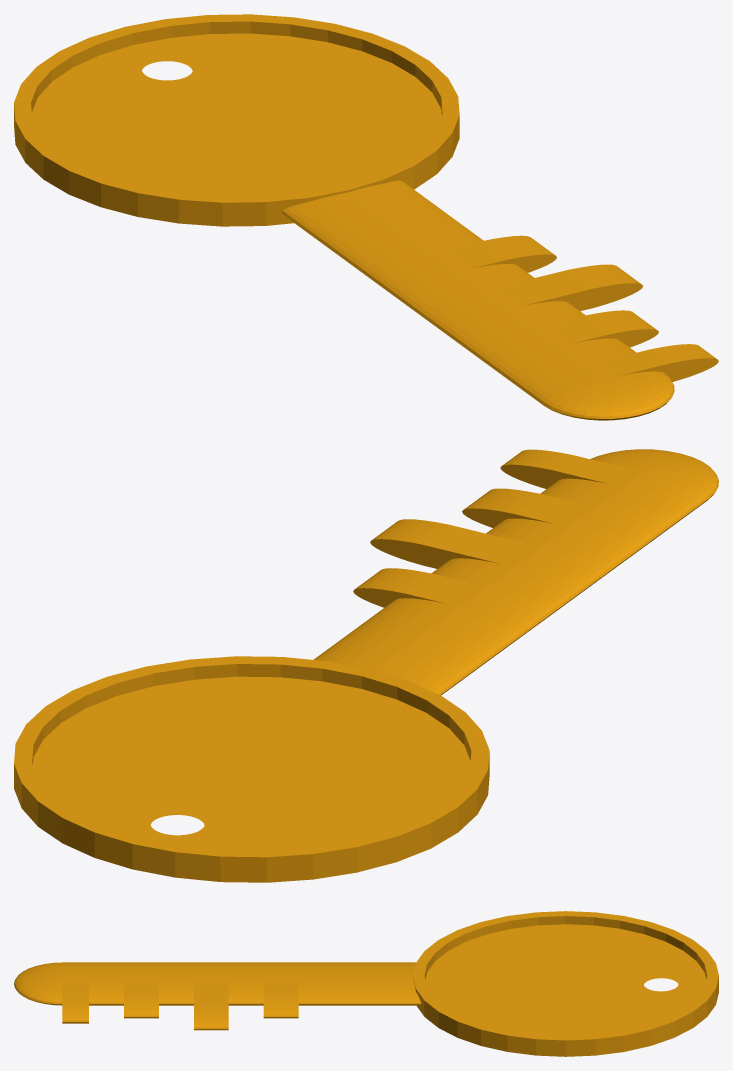
The model's file is llavetp01.fbx.
3 views of the same model, one above another, from view 1: azimuth 30°, elevation 25°; view 2: azimuth 150°, elevation 25°; view 3: azimuth 270°, elevation 25° (orthographic). The views are drawn at different scales.
Visible parts, largest first — view 1: Sphere; view 2: Sphere; view 3: Sphere.
Part boxes in pixels (x1,y1,x2,y2): Sphere: [14, 14, 718, 420]; Sphere: [14, 449, 718, 882]; Sphere: [14, 911, 718, 1056].
Size of the model in its own units: 200 by 11.8 by 461.
